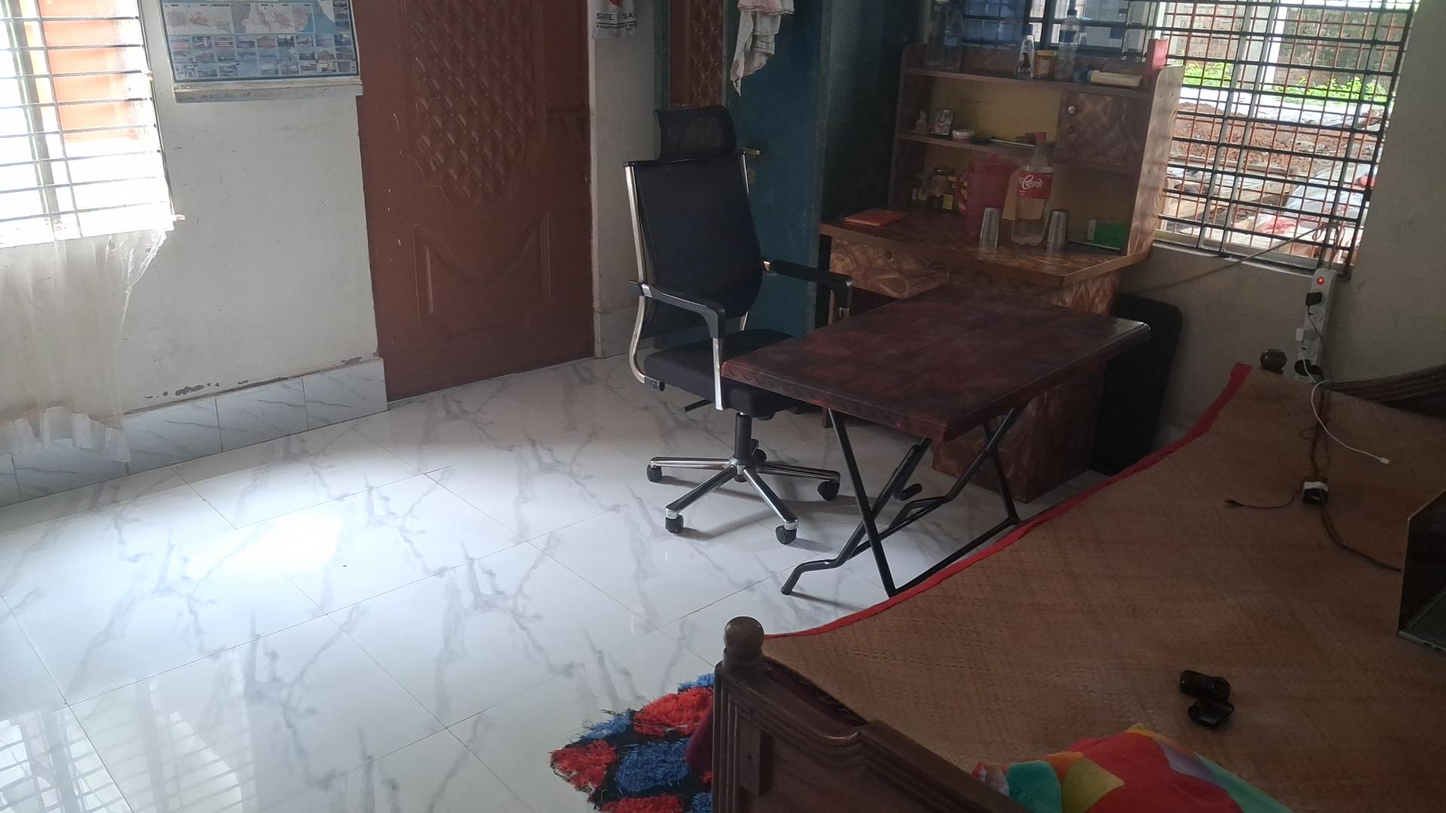Bottle: (1016, 131, 1051, 251), (1056, 9, 1078, 82), (926, 0, 946, 70), (1081, 69, 1143, 88), (947, 7, 964, 72), (1016, 24, 1034, 79)
Box: (1086, 214, 1128, 246)
Chair: (624, 101, 854, 544)
Door: (722, 280, 1153, 580), (338, 1, 616, 413)
Glass: (980, 207, 1001, 250), (1051, 210, 1070, 249)
Jar: (932, 166, 959, 210), (912, 172, 933, 207), (1037, 50, 1058, 80)
Jug: (962, 155, 1015, 235)
Window: (1159, 0, 1393, 273), (3, 0, 181, 242)
